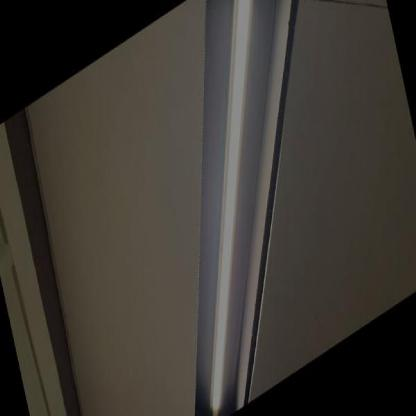light_on: (126, 0, 340, 415)
